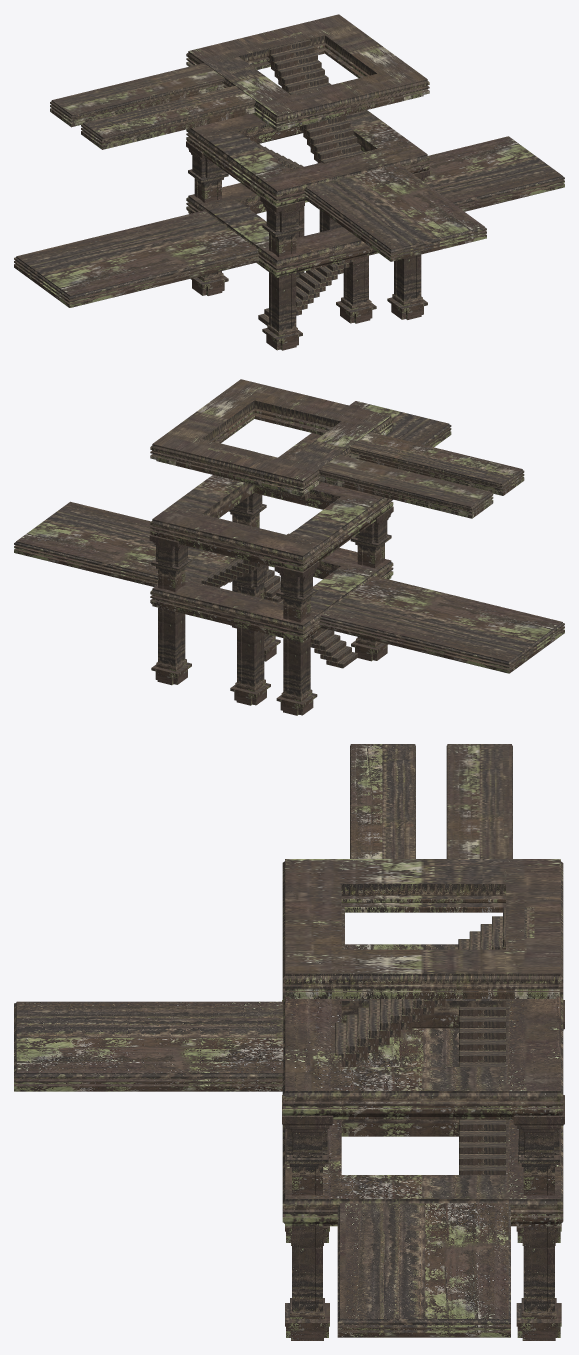
The model's file is level4_stairs.fbx.
The picture shows the model from 3 angles, top to bottom: view 1: azimuth 30°, elevation 25°; view 2: azimuth 150°, elevation 25°; view 3: azimuth 270°, elevation 25°; orthographic projection. The views are drawn at different scales.
Visible parts, largest first — view 1: Cube.030; view 2: Cube.030; view 3: Cube.030.
Boxes of the visible parts, bbox=[...] form: Cube.030: bbox=[14, 14, 564, 350]; Cube.030: bbox=[14, 379, 564, 715]; Cube.030: bbox=[14, 744, 564, 1340].
Bounding box in the file's own units: 4678 × 2305 × 2891.
